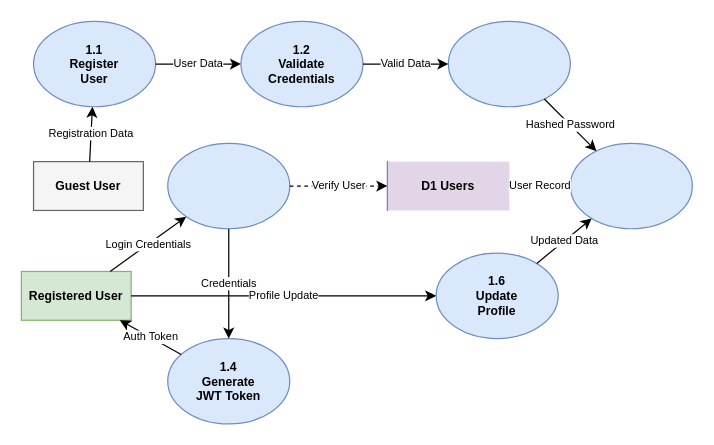
Some shapes in this 714 by 445 pixel diagram are drawn without their labels. The shapes that lost their labels are listed below. From the top down, each one's box as (x1, y1, x2, y2) in pixels, then its label:
(447, 20, 570, 107): 1.5 Hash Password
(167, 142, 290, 229): 1.3 Authenticate User
(569, 142, 692, 229): 1.7 Store User Record
